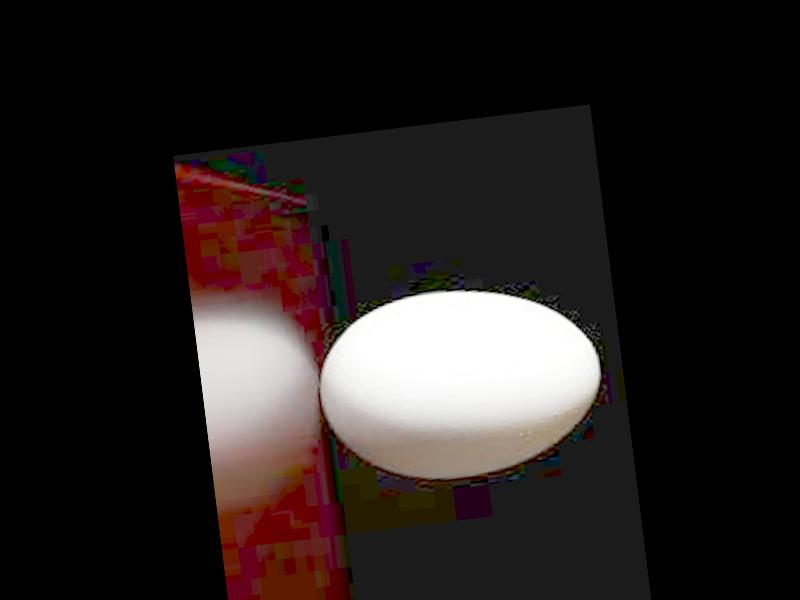Eggs: (309, 274, 610, 490)
